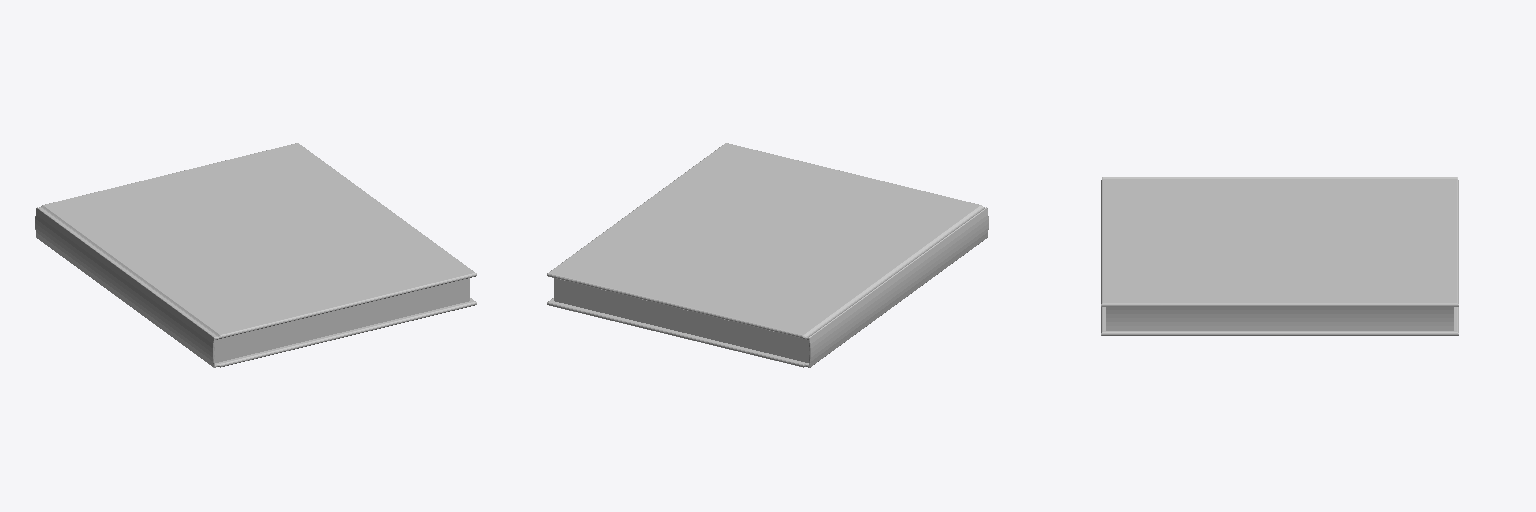
File: book.obj
3 renders of one model, left to right at view 1: azimuth 30°, elevation 25°; view 2: azimuth 150°, elevation 25°; view 3: azimuth 270°, elevation 25°, orthographic.
Parts seen in each view (by area): view 1: Book; view 2: Book; view 3: Book.
Part boxes in pixels (x1,y1,x2,y2): Book: (35, 143, 476, 367); Book: (547, 143, 988, 367); Book: (1101, 177, 1458, 335).
Size of the model in its own units: 1.03 by 0.121 by 1.21.